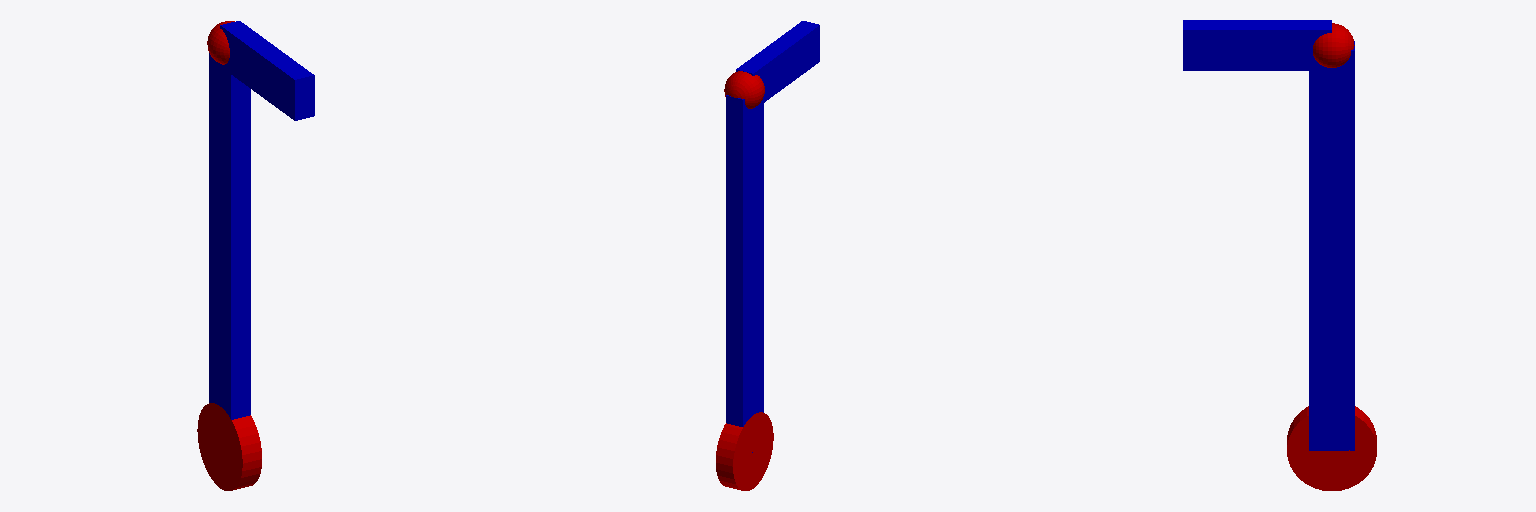
URDF robot description (TwoLinkStruct7586799949):
<?xml version="1.0"?>
<robot  name="TwoLinkStruct7586799949" >
 <material  name="blue" >
  <color  rgba="0 0 0.8 1.0" />
 </material>
 <material  name="red" >
  <color  rgba="0.8 0 0 1.0" />
 </material>
 <link  name="base_link" >
  <visual >
   <origin  rpy="0 1.5707 0"  xyz="0 0 0" />
   <material  name="red" />
   <geometry >
    <cylinder  length="0.05"  radius="0.1" />
   </geometry>
  </visual>
 </link>
 <joint  type="revolute"  name="joint1" >
  <parent  link="base_link" />
  <child  link="link1" />
  <origin  xyz="0 0 0"  rpy="0 0 0" />
  <axis  xyz="1 0 0" />
 </joint>
 <link  name="link1" >
  <inertial >
   <origin  rpy="0 0 0"  xyz="0 0 0.4886205940920433" />
   <mass  value="3.4581439226590795" />
   <inertia  ixy="0.0"  iyy="0.00144089330110795"  izz="0.27593116510932825"  ixz="0.0"  ixx="0.27593116510932825"  iyz="0.0" />
  </inertial>
  <visual >
   <origin  rpy="0 0 0"  xyz="0 0 0.4886205940920433" />
   <material  name="blue" />
   <geometry >
    <box  size="0.05 0.1 0.9772411881840866" />
   </geometry>
  </visual>
 </link>
 <joint  type="fixed"  name="joint-joint-1" >
  <parent  link="link1" />
  <child  link="joint-link-1" />
  <origin  xyz="0 0 0.9772411881840866"  rpy="1.5707 0 0" />
  <axis  xyz="1 0 0" />
 </joint>
 <link  name="joint-link-1" >
  <inertial >
   <origin  rpy="0 0 0"  xyz="0 0 0" />
   <mass  value="0.04549014593203857" />
   <inertia  ixy="0"  iyy="0"  izz="0"  ixz="0"  ixx="0"  iyz="0" />
  </inertial>
  <visual >
   <origin  rpy="0 0 0"  xyz="0 0 0" />
   <material  name="red" />
   <geometry >
    <sphere  radius="0.05" />
   </geometry>
  </visual>
 </link>
 <joint  type="revolute"  name="joint2" >
  <parent  link="link1" />
  <child  link="link2" />
  <origin  xyz="0 0 0.9772411881840866"  rpy="1.5707 0 0" />
  <axis  xyz="1 0 0" />
 </joint>
 <link  name="link2" >
  <inertial >
   <origin  rpy="0 0 0"  xyz="0 0 0.1651584382801558" />
   <mass  value="0.21152088741708258" />
   <inertia  ixy="0.0"  iyy="0.00144089330110795"  izz="0.03216340094624193"  ixz="0.0"  ixx="0.03216340094624193"  iyz="0.0" />
  </inertial>
  <visual >
   <origin  rpy="0 0 0"  xyz="0 0 0.1651584382801558" />
   <material  name="blue" />
   <geometry >
    <box  size="0.05 0.1 0.3303168765603116" />
   </geometry>
  </visual>
 </link>
 <joint  type="fixed"  name="eef_joint" >
  <parent  link="link2" />
  <child  link="eef" />
  <origin  xyz="0 0 0.3303168765603116"  rpy="0 0 0" />
 </joint>
 <link  name="eef" >
  <inertial >
   <origin  rpy="0 0 0"  xyz="0 0 0" />
   <mass  value="1" />
   <inertia  ixy="0"  iyy="0"  izz="0"  ixz="0"  ixx="0"  iyz="0" />
  </inertial>
 </link>
 <transmission  name="motor1" >
  <type  xmltext="SimpleTransmission" >
   SimpleTransmission
  </type>
  <actuator  name="motor1" >
   <mechanicalreduction  xmltext="1" >
    1
   </mechanicalreduction>
  </actuator>
  <joint  name="joint1" />
 </transmission>
 <transmission  name="motor2" >
  <type  xmltext="SimpleTransmission" >
   SimpleTransmission
  </type>
  <actuator  name="motor2" >
   <mechanicalreduction  xmltext="1" >
    1
   </mechanicalreduction>
  </actuator>
  <joint  name="joint2" />
 </transmission>
</robot>

<!-- {'carti': array([-0.1 ,  0.14,  0.85]), 'cartd': array([-0.1 ,  0.32,  1.29]), 'tau_mu': 0.6736452936654278, 'b0': 0.3099049016123686, 'Km': 3.899023361260405, 'k_velocity': 94.3466544029518, 'tau_max_m': 2.2407159919340383, 'omega_max_m': 8400.798338235903, 'gear_ratio': 22.056424785473187, 'Kp': 77.51841393684711, 'Kd': 80.7370379850795, 'm_m': 0.04549014593203857, 'l1': 0.9772411881840866, 'l2': 0.3303168765603116, 'k1': 8339.20725280108, 'k2': 76970209.9879377, 'k3': 54471729.657797806}-->

--- Facts derived from the render (not from the file) ---
Views: 3 orthographic renders of the robot side by side, from view 1: azimuth 30°, elevation 25°; view 2: azimuth 150°, elevation 25°; view 3: azimuth 270°, elevation 25°.
Model TwoLinkStruct7586799949 with 5 links and 4 joints (2 revolute, 2 fixed), rooted at base_link, posed every joint at zero.
Visible links, largest first — view 1: link1, link2, base_link, joint-link-1; view 2: link1, base_link, link2, joint-link-1; view 3: link1, link2, base_link, joint-link-1.
Boxes of the visible links, <box> form: link1: <box>209,53,250,419</box>; link2: <box>220,21,314,120</box>; base_link: <box>197,403,261,490</box>; joint-link-1: <box>207,21,234,64</box>; link1: <box>726,95,763,452</box>; base_link: <box>716,412,773,490</box>; link2: <box>736,21,819,102</box>; joint-link-1: <box>724,71,764,108</box>; link1: <box>1309,41,1354,450</box>; link2: <box>1183,20,1331,70</box>; base_link: <box>1287,406,1376,490</box>; joint-link-1: <box>1313,23,1354,67</box>.
Bounding box of the posed robot: 0.1 × 0.4303 × 1.13 m (x, y, z).
Geometry: primitives only (box / cylinder / sphere), no mesh files.
